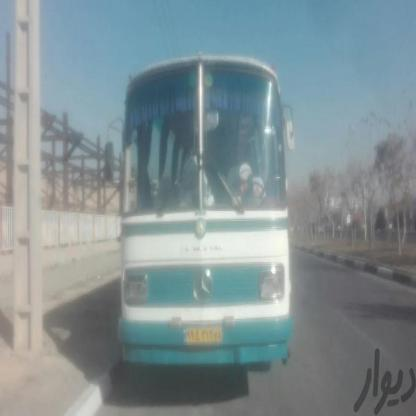Bus: (115, 47, 300, 389)
